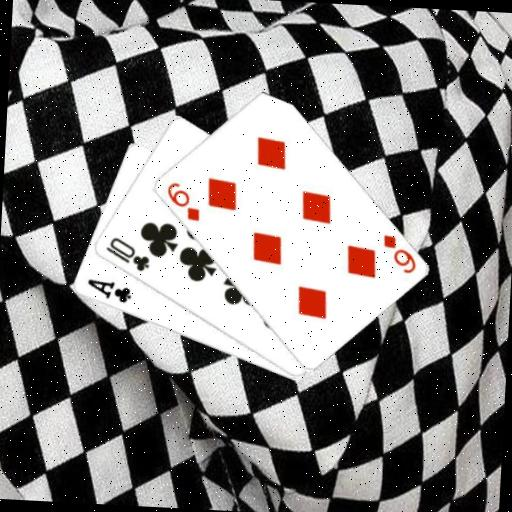10C: (101, 234, 153, 274)
6D: (378, 231, 419, 276), (162, 179, 203, 223)
AC: (83, 276, 133, 306)
